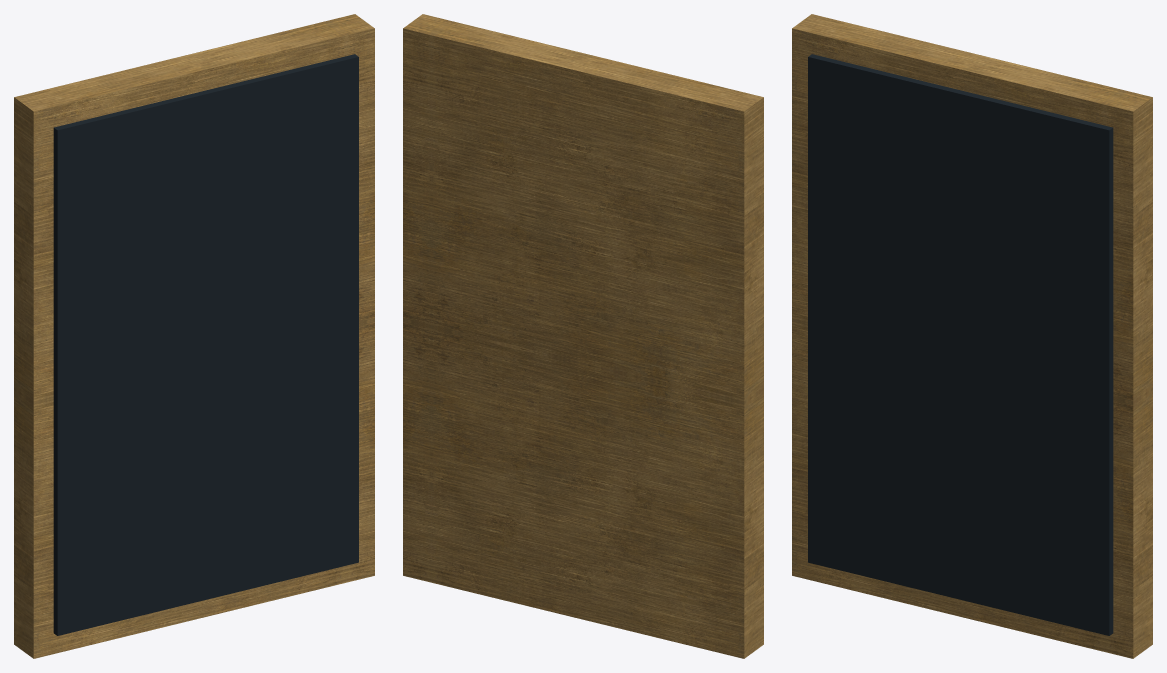
File: commons-poster-frame.glb
The picture shows the model from 3 angles, left to right: view 1: azimuth 30°, elevation 25°; view 2: azimuth 150°, elevation 25°; view 3: azimuth 330°, elevation 25°; orthographic projection.
Visible parts, largest first — view 1: AV_PosterFace_05.001, AV_PosterFrame_05.001; view 2: AV_PosterFrame_05.001; view 3: AV_PosterFace_05.001, AV_PosterFrame_05.001.
Boxes of the visible parts, x1,y1,x2,y2 form: AV_PosterFace_05.001: [53, 54, 358, 635]; AV_PosterFrame_05.001: [14, 14, 374, 658]; AV_PosterFrame_05.001: [403, 14, 763, 658]; AV_PosterFace_05.001: [808, 54, 1113, 635]; AV_PosterFrame_05.001: [792, 14, 1152, 658].
Size of the model in its own units: 1.2 by 1.84 by 0.1435.
2 materials, 1 textured.
